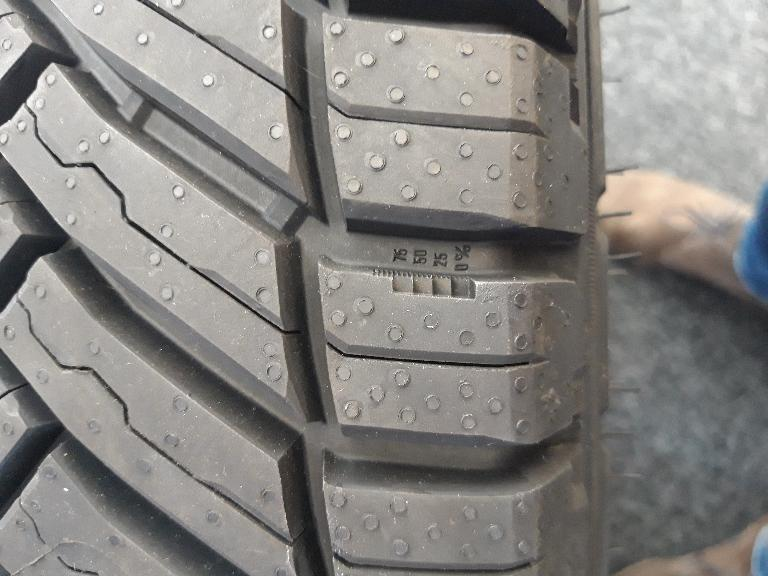temoin:100: (369, 262, 481, 304)
